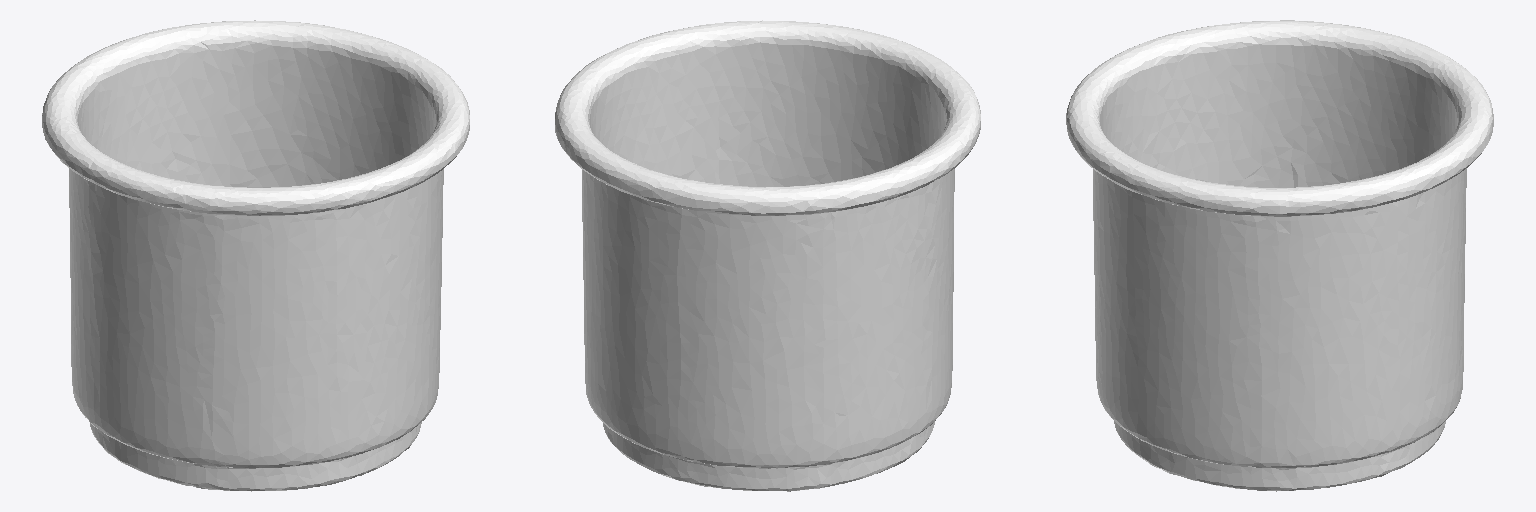
The robot description file, URDF, robot "057_racquetball":
<robot name="057_racquetball">
	<link name="_name">
		<visual>
			<origin xyz="0.09071044745210352 1.2221649947970037 -0.2757113836293019" rpy="0 0 0" />
			<geometry>
				<mesh filename="057_racquetball/google_16k/textured.obj" scale="10 10 10" />
			</geometry>
			<material name="texture">
				<color rgba="1.0 1.0 1.0 1.0" />
			</material>
		</visual>
		<collision>
			<geometry>
				<mesh filename="057_racquetball/google_16k/textured_vhacd.obj" scale="10 10 10" />
			</geometry>
		<origin xyz="0.09071044745210352 1.2221649947970037 -0.2757113836293019" rpy="0 0 0" /></collision>
		<inertial>
			<mass value="1.0" />
			<inertia ixx="1.0" ixy="0.0" ixz="0.0" iyy="1.0" iyz="0.0" izz="1.0" />
		</inertial>
	</link>
</robot>

--- What the picture shows (computed from the rendered views, not written in the file) ---
3 views of the same robot in one strip: view 1: azimuth 30°, elevation 25°; view 2: azimuth 150°, elevation 25°; view 3: azimuth 270°, elevation 25° (orthographic).
Model 057_racquetball with 1 links and 0 joints (none), rooted at _name, posed every joint at zero.
Visible links, largest first — view 1: _name; view 2: _name; view 3: _name.
Link boxes in pixels (<box>): _name: <box>42,20,469,491</box>; _name: <box>555,20,980,491</box>; _name: <box>1066,20,1493,491</box>.
Bounding box of the posed robot: 0.915 × 0.9162 × 0.7506 m (x, y, z).
1 mesh visuals loaded from 1 distinct referenced files (1 OBJ).